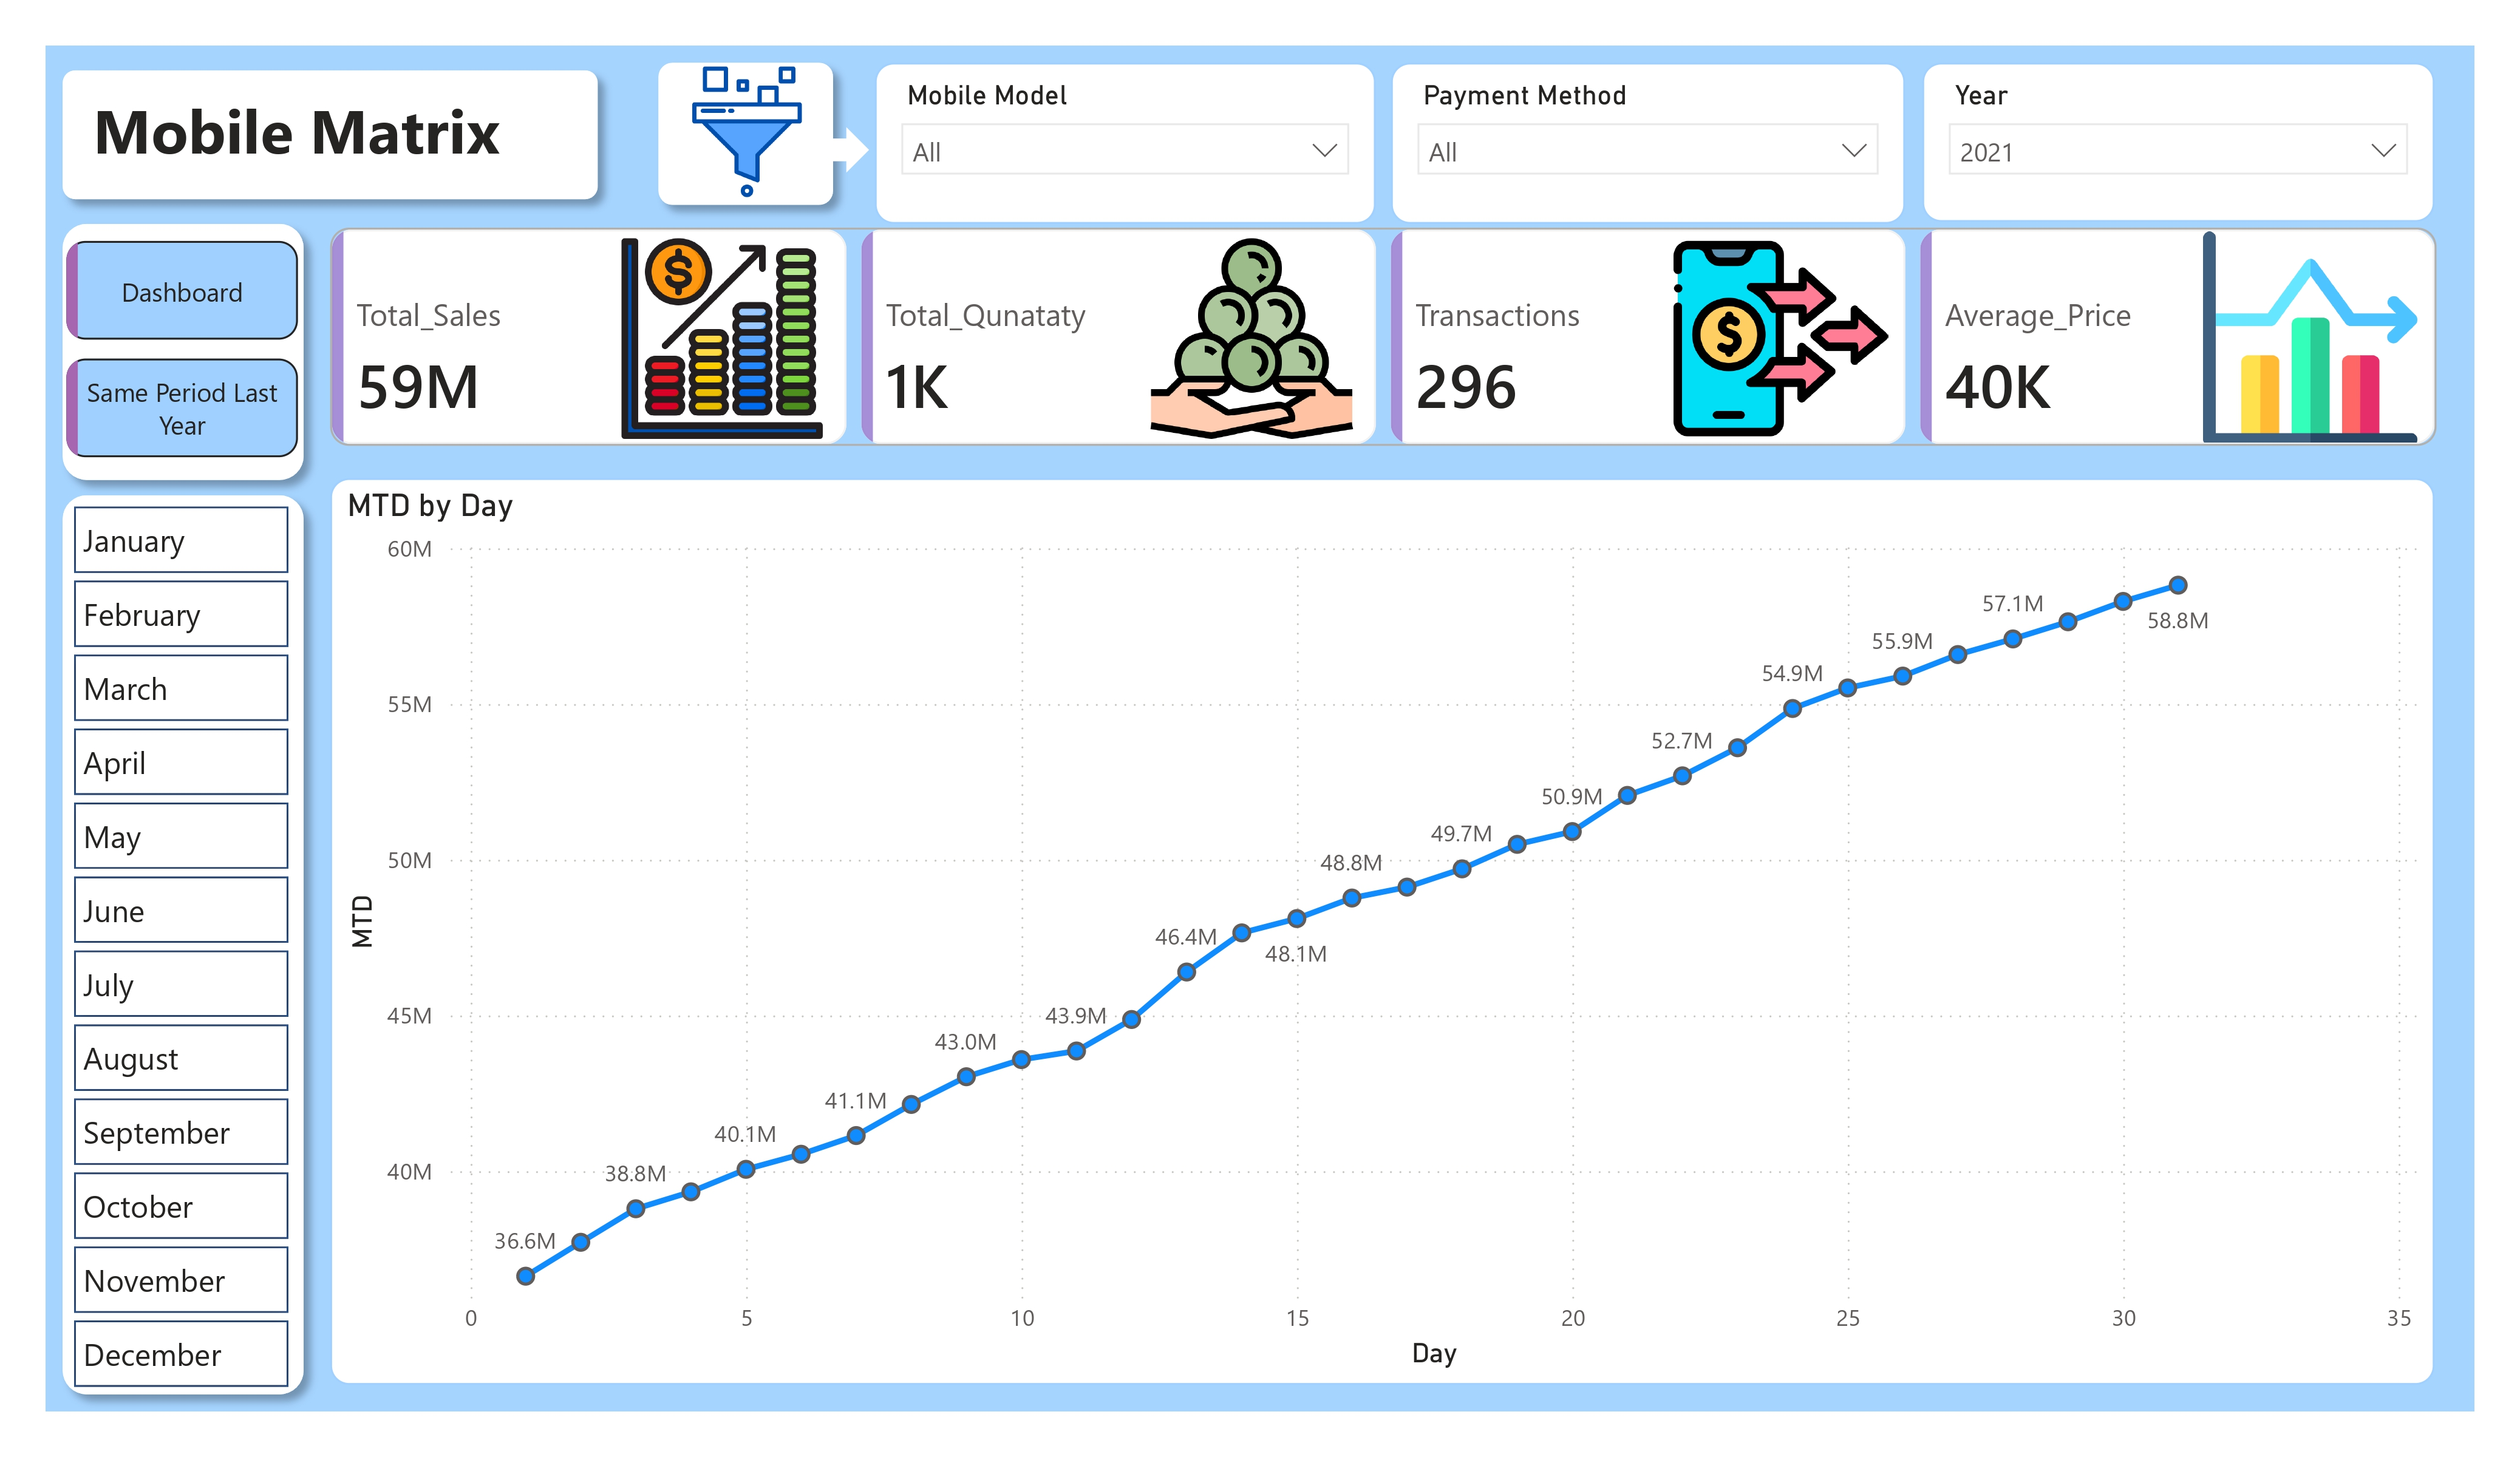

This screenshot's page, from the dashboard's own definition file:
{"tool":"powerbi","page":{"name":"MTD Report","canvas":[1280,720],"ordinal":1},"visuals":[{"type":"shape","box":[0,4.3,300,85.7],"z":0},{"type":"shape","box":[0,85,144.6,153.1],"z":1000},{"type":"cardVisual","fields":{"Data":["Sales_Data.Total_Sales","Sales_Data.Total_Qunataty","Sales_Data.Transactions","Sales_Data.Average_Price"]},"box":[133.2,79.4,1146.6,148.8],"z":2000},{"type":"slicer","fields":{"Values":["Sales_Data.Mobile Model"]},"box":[437.1,8.6,264.3,85.7],"z":3000},{"type":"slicer","fields":{"Values":["Sales_Data.Payment Method"]},"box":[708.6,8.6,271.4,85.7],"z":4000},{"type":"slicer","fields":{"Values":["Custom_calendar.Date.Variation.Date Hierarchy.Year"]},"box":[988.6,8.6,270,84.3],"z":5000},{"type":"shape","box":[314.3,0,110,92.9],"z":6000},{"type":"image","box":[314.3,10,110,71.4],"z":7000},{"type":"shape","box":[395.7,42.9,38.6,24.3],"z":8000},{"type":"textbox","box":[20,17.1,258.6,61.4],"z":9000},{"type":"lineChart","fields":{"Category":["Custom_calendar.Date.Variation.Date Hierarchy.Year","Custom_calendar.Date.Variation.Date Hierarchy.Quarter","Custom_calendar.Date.Variation.Date Hierarchy.Month","Custom_calendar.Date.Variation.Date Hierarchy.Day"],"Y":["Sales_Data.MTD"]},"box":[150.2,228.2,1108.3,477.6],"z":10000},{"type":"shape","box":[0,228.2,144.6,491.8],"z":11000},{"type":"advancedSlicerVisual","fields":{"Values":["Custom_calendar.Date.Variation.Date Hierarchy.Month"]},"box":[9.9,238.1,123.3,481.9],"z":12000},{"type":"pageNavigator","box":[11.3,103.5,121.9,113.4],"z":13000}]}

Visuals, with their boxes on the page's 1280x720 design canvas (x1, y1, x2, y2). These are canvas units, not pixel positions in the 2520x1457 screenshot, which may show the page scaled, cropped or inside an application window:
shape: 0:4:300:90
shape: 0:85:145:238
cardVisual - Sales_Data.Total_Sales x Sales_Data.Total_Qunataty: 133:79:1280:228
slicer - Sales_Data.Mobile Model: 437:9:701:94
slicer - Sales_Data.Payment Method: 709:9:980:94
slicer - Custom_calendar.Date.Variation.Date Hierarchy.Year: 989:9:1259:93
shape: 314:0:424:93
image: 314:10:424:81
shape: 396:43:434:67
textbox: 20:17:279:78
lineChart - Custom_calendar.Date.Variation.Date Hierarchy.Year x Custom_calendar.Date.Variation.Date Hierarchy.Quarter: 150:228:1258:706
shape: 0:228:145:720
advancedSlicerVisual - Custom_calendar.Date.Variation.Date Hierarchy.Month: 10:238:133:720
pageNavigator: 11:104:133:217
